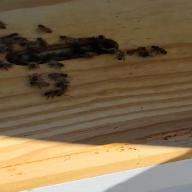Bee: (21, 73, 79, 99), (134, 46, 172, 58), (33, 23, 62, 34)
